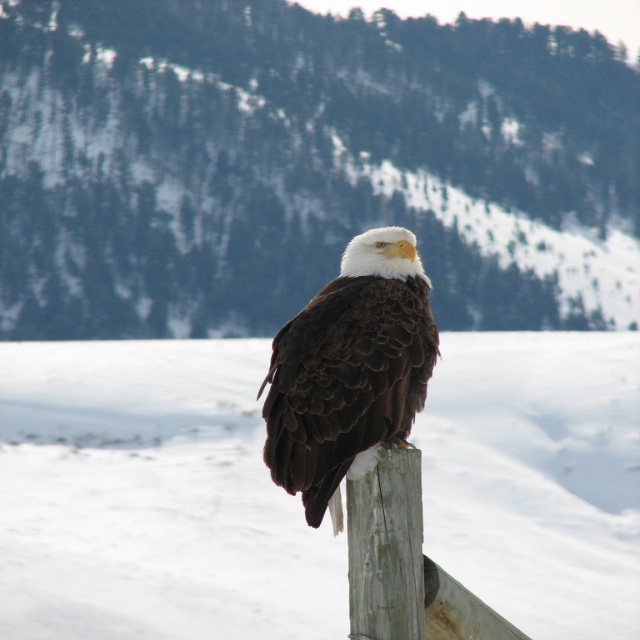Eagle: (251, 222, 443, 533)
